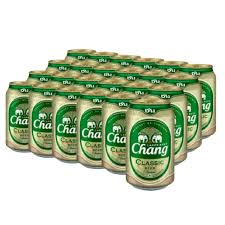can: (1, 45, 222, 193)
